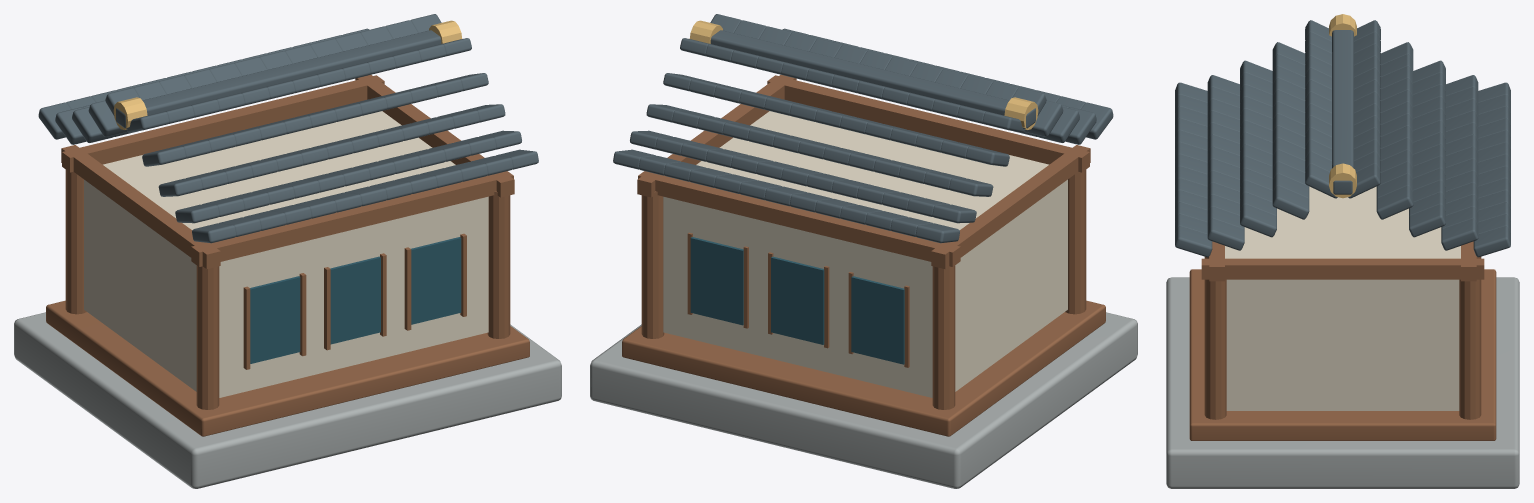
File: Hanok.fbx
3 views of the same model, side by side, from view 1: azimuth 30°, elevation 25°; view 2: azimuth 150°, elevation 25°; view 3: azimuth 270°, elevation 25° (orthographic). The views are drawn at different scales.
Visible parts, largest first — view 1: Hanok_Wall, Hanok_Foundation, Hanok_Platform, Hanok_Beam.001, Hanok_Beam, Hanok_Ridge, Hanok_Beam.002, Hanok_Window.001, Hanok_Window, Hanok_Window.002, Hanok_Pillar, Hanok_Pillar.002 (+14 smaller); view 2: Hanok_Wall, Hanok_Foundation, Hanok_Platform, Hanok_Beam, Hanok_Beam.001, Hanok_Ridge, Hanok_Window.003, Hanok_Window.004, Hanok_Window.005, Hanok_Beam.002, Hanok_Pillar.001, Hanok_Pillar.003 (+11 smaller); view 3: Hanok_Wall, Hanok_Foundation, Hanok_Platform, Hanok_Beam.003, Hanok_Ridge, Hanok_Pillar.002, Hanok_Pillar.003, Hanok_Tile.061, Hanok_Tile.126, Hanok_Tile.063, Hanok_Tile.128, Hanok_Tile.062 (+105 smaller).
Boxes of the visible parts, x1=… form: Hanok_Wall: x1=84, y1=111, x2=488, y2=397; Hanok_Foundation: x1=14, y1=312, x2=561, y2=488; Hanok_Platform: x1=46, y1=300, x2=529, y2=436; Hanok_Beam.001: x1=62, y1=75, x2=384, y2=172; Hanok_Beam: x1=191, y1=171, x2=513, y2=266; Hanok_Ridge: x1=116, y1=30, x2=441, y2=129; Hanok_Beam.002: x1=61, y1=145, x2=220, y2=268; Hanok_Window.001: x1=330, y1=256, x2=380, y2=344; Hanok_Window: x1=250, y1=276, x2=300, y2=363; Hanok_Window.002: x1=411, y1=237, x2=461, y2=324; Hanok_Pillar: x1=196, y1=265, x2=219, y2=409; Hanok_Pillar.002: x1=487, y1=191, x2=510, y2=338; Hanok_Wall: x1=663, y1=111, x2=1067, y2=397; Hanok_Foundation: x1=590, y1=312, x2=1137, y2=488; Hanok_Platform: x1=622, y1=300, x2=1105, y2=436; Hanok_Beam: x1=767, y1=75, x2=1089, y2=172; Hanok_Beam.001: x1=638, y1=171, x2=960, y2=266; Hanok_Ridge: x1=710, y1=30, x2=1035, y2=129; Hanok_Window.003: x1=851, y1=276, x2=904, y2=364; Hanok_Window.004: x1=771, y1=256, x2=824, y2=344; Hanok_Window.005: x1=690, y1=237, x2=743, y2=325; Hanok_Beam.002: x1=931, y1=145, x2=1090, y2=268; Hanok_Pillar.001: x1=932, y1=265, x2=955, y2=409; Hanok_Pillar.003: x1=641, y1=191, x2=664, y2=338; Hanok_Wall: x1=1225, y1=186, x2=1460, y2=410; Hanok_Foundation: x1=1166, y1=277, x2=1519, y2=488; Hanok_Platform: x1=1189, y1=269, x2=1496, y2=440; Hanok_Beam.003: x1=1201, y1=258, x2=1484, y2=279; Hanok_Ridge: x1=1332, y1=30, x2=1353, y2=194; Hanok_Pillar.002: x1=1204, y1=279, x2=1226, y2=419; Hanok_Pillar.003: x1=1459, y1=279, x2=1481, y2=419; Hanok_Tile.061: x1=1376, y1=185, x2=1413, y2=219; Hanok_Tile.126: x1=1272, y1=185, x2=1309, y2=219; Hanok_Tile.063: x1=1441, y1=218, x2=1478, y2=250; Hanok_Tile.128: x1=1207, y1=218, x2=1244, y2=250; Hanok_Tile.062: x1=1409, y1=204, x2=1445, y2=237.
Bounding box in the file's own units: 530 × 435 × 450.
